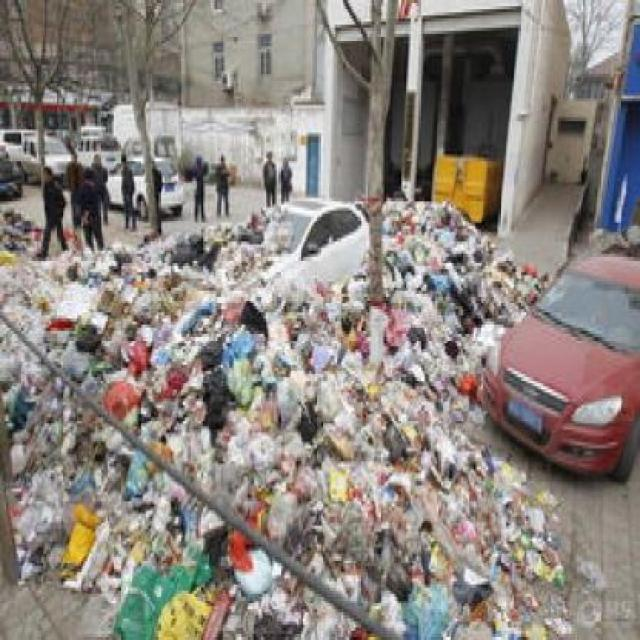garbage: (2, 251, 220, 585), (212, 325, 383, 638), (386, 199, 482, 638), (486, 239, 533, 332)
